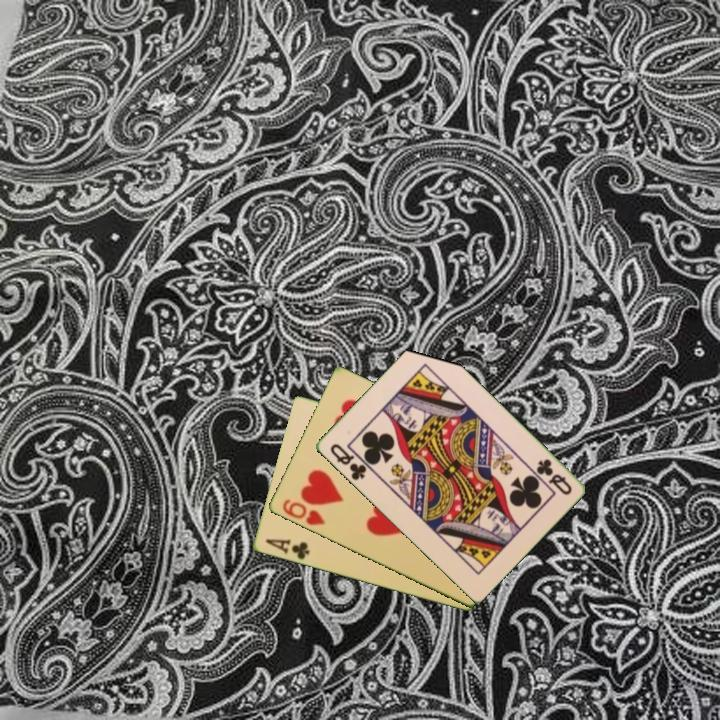6h: (278, 495, 328, 528)
Ac: (262, 535, 312, 563)
Qc: (326, 440, 369, 483), (532, 455, 574, 498)
